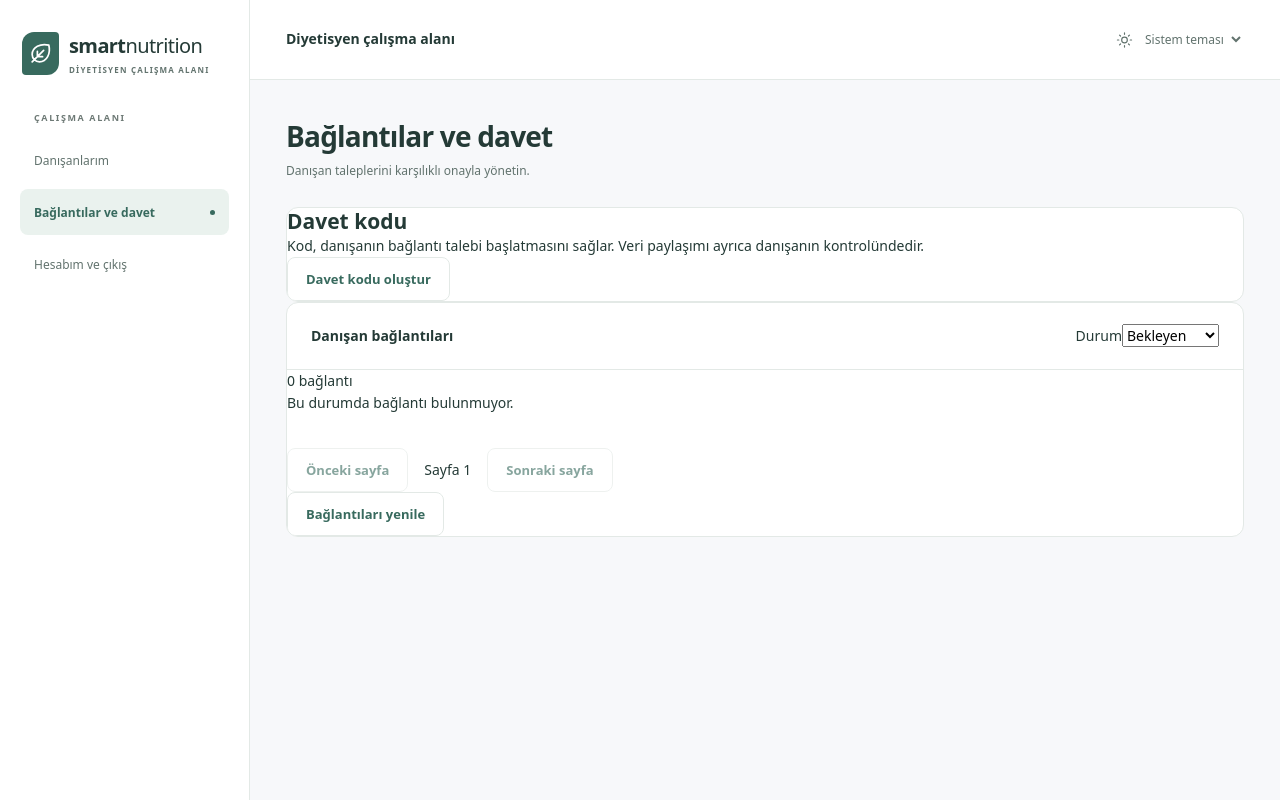
Scenario: authenticated dietitian workspace › creates a single-use invitation with CSRF only after explicit submission
Check: the text "Bu durumda bağlantı bulunmuyor." is shown, box [287,393,514,412]
Click the button "Davet kodu oluştur" at (368, 279), box [287,257,450,301]
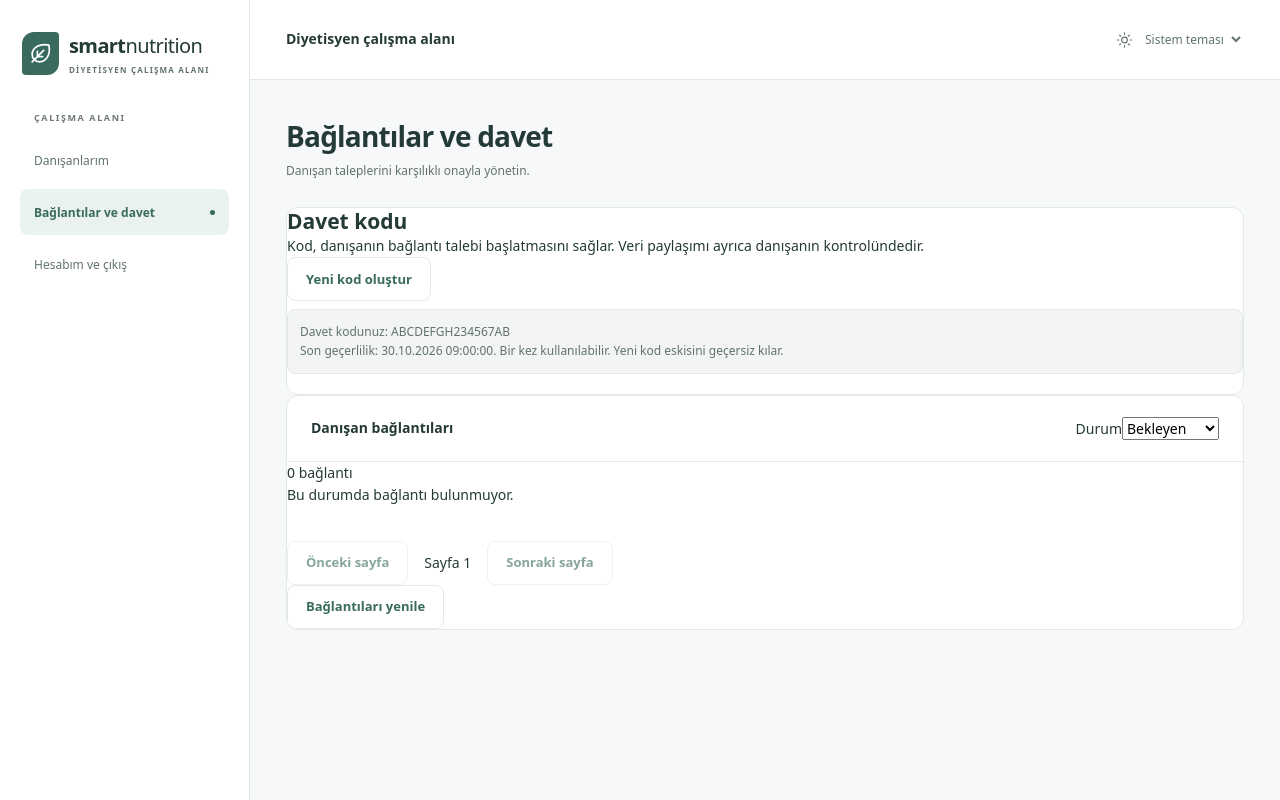
Check: the text "ABCDEFGH234567AB" is shown, box [391,323,510,340]
